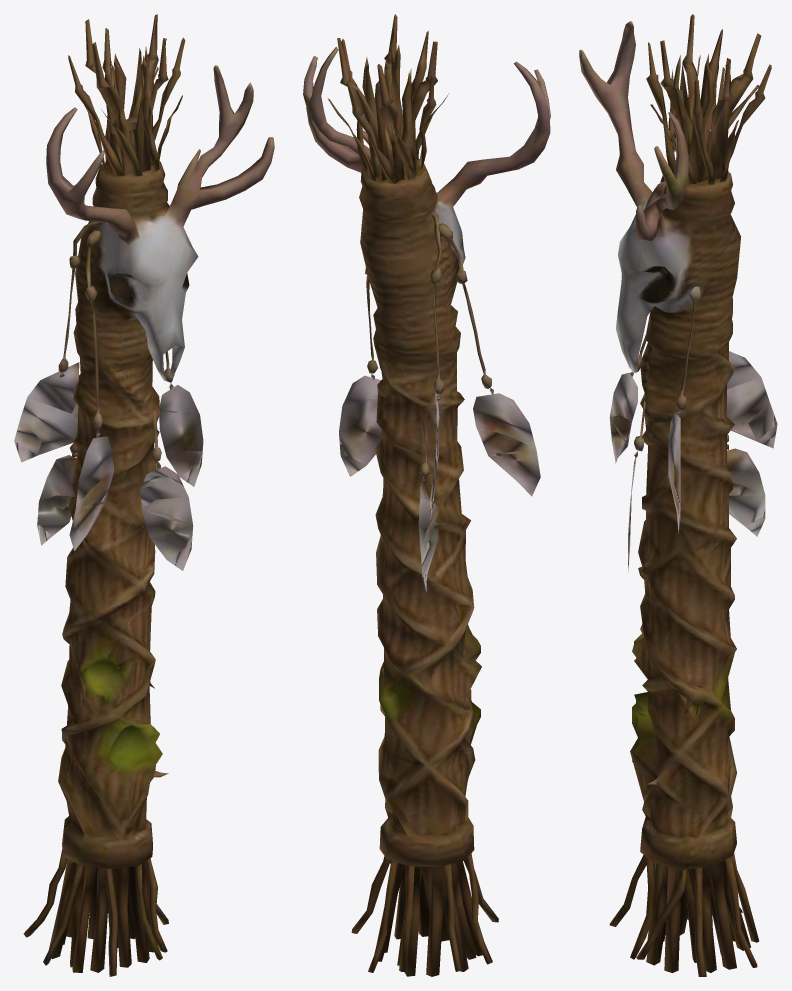
The model's file is wyn_outpost_bracken_totem.glb.
The picture shows the model from 3 angles, left to right: view 1: azimuth 30°, elevation 25°; view 2: azimuth 150°, elevation 25°; view 3: azimuth 270°, elevation 25°; orthographic projection. The views are drawn at different scales.
Parts seen in each view (by area): view 1: tripo_node_b001e419-e061-4d8f-ba61-e37c7e6ec0b8; view 2: tripo_node_b001e419-e061-4d8f-ba61-e37c7e6ec0b8; view 3: tripo_node_b001e419-e061-4d8f-ba61-e37c7e6ec0b8.
Boxes of the visible parts, x1,y1,x2,y2 form: tripo_node_b001e419-e061-4d8f-ba61-e37c7e6ec0b8: (14, 14, 274, 976); tripo_node_b001e419-e061-4d8f-ba61-e37c7e6ec0b8: (303, 14, 550, 976); tripo_node_b001e419-e061-4d8f-ba61-e37c7e6ec0b8: (579, 14, 777, 976).
Size of the model in its own units: 0.6971 by 2.6 by 0.4986.
1 material, 1 textured.
